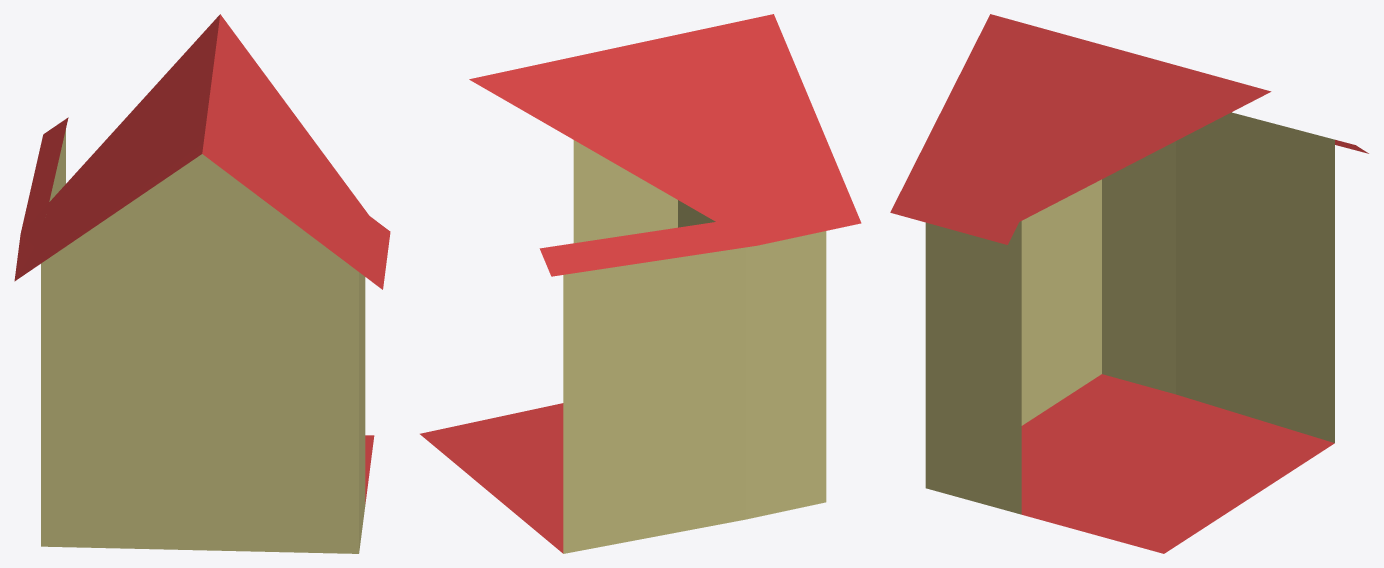
3 views of the same model, side by side, from view 1: azimuth 30°, elevation 25°; view 2: azimuth 150°, elevation 25°; view 3: azimuth 270°, elevation 25° (orthographic). The views are drawn at different scales.
Bounding box in the file's own units: 13.48 × 14.02 × 13.3.
